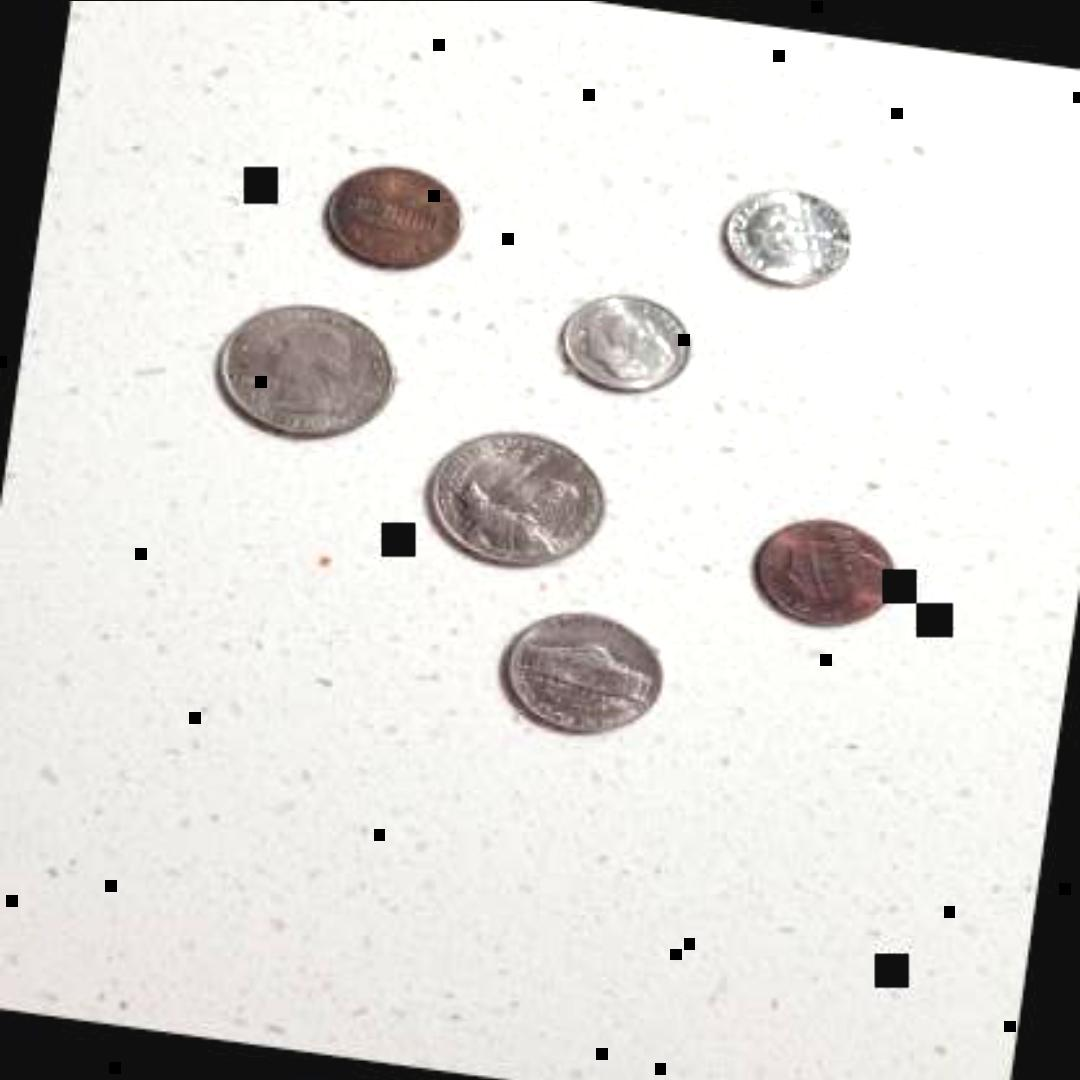Dime: (700, 165, 856, 312), (548, 282, 700, 400)
Nickel: (470, 582, 698, 766)
Penny: (725, 494, 911, 648), (292, 150, 474, 296)
Quarter: (390, 415, 620, 588), (199, 290, 409, 460)
